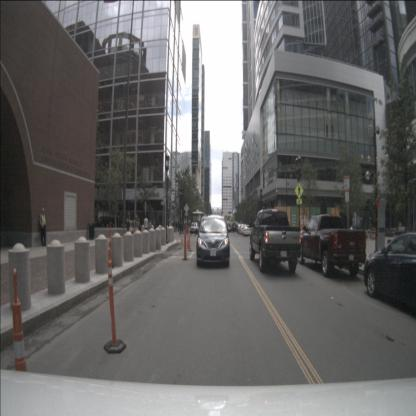human-pedestrian-adult: (135, 214, 140, 240), (126, 214, 131, 239), (144, 215, 148, 240), (148, 216, 152, 240), (350, 224, 353, 238), (178, 220, 181, 233), (356, 225, 359, 238), (399, 220, 402, 233), (388, 224, 391, 233), (176, 220, 178, 232), (173, 221, 175, 232), (182, 223, 184, 234)
movable_object-trafficcone: (5, 269, 33, 416), (104, 248, 127, 353), (106, 222, 114, 268), (181, 228, 188, 260), (188, 228, 192, 251), (180, 233, 184, 244), (186, 235, 190, 246), (188, 238, 190, 249)
vehicle-bus-rigid: (192, 212, 205, 233)
vehicle-car: (363, 232, 416, 310), (196, 214, 230, 266), (95, 216, 122, 231), (242, 224, 252, 236), (190, 221, 199, 234), (238, 224, 246, 234), (226, 222, 234, 232), (236, 223, 241, 232)
vehicle-truck: (296, 213, 366, 278), (250, 209, 302, 273)
